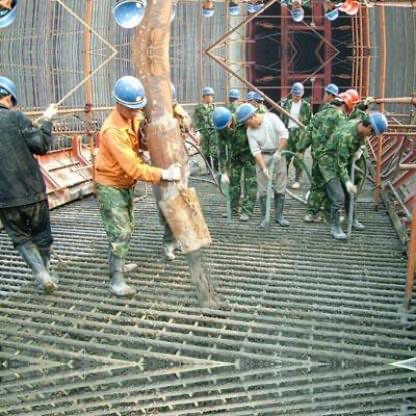helmet: (111, 74, 147, 116), (111, 0, 148, 31), (1, 73, 22, 119), (236, 102, 264, 132), (363, 111, 390, 141), (0, 0, 22, 32), (211, 106, 233, 134), (333, 91, 354, 113), (290, 80, 305, 102), (290, 2, 305, 24), (332, 0, 354, 14), (324, 82, 339, 102), (324, 2, 339, 22), (346, 87, 360, 107), (346, 0, 361, 18), (199, 85, 213, 103), (199, 1, 213, 19), (227, 88, 238, 107), (226, 0, 238, 17)
